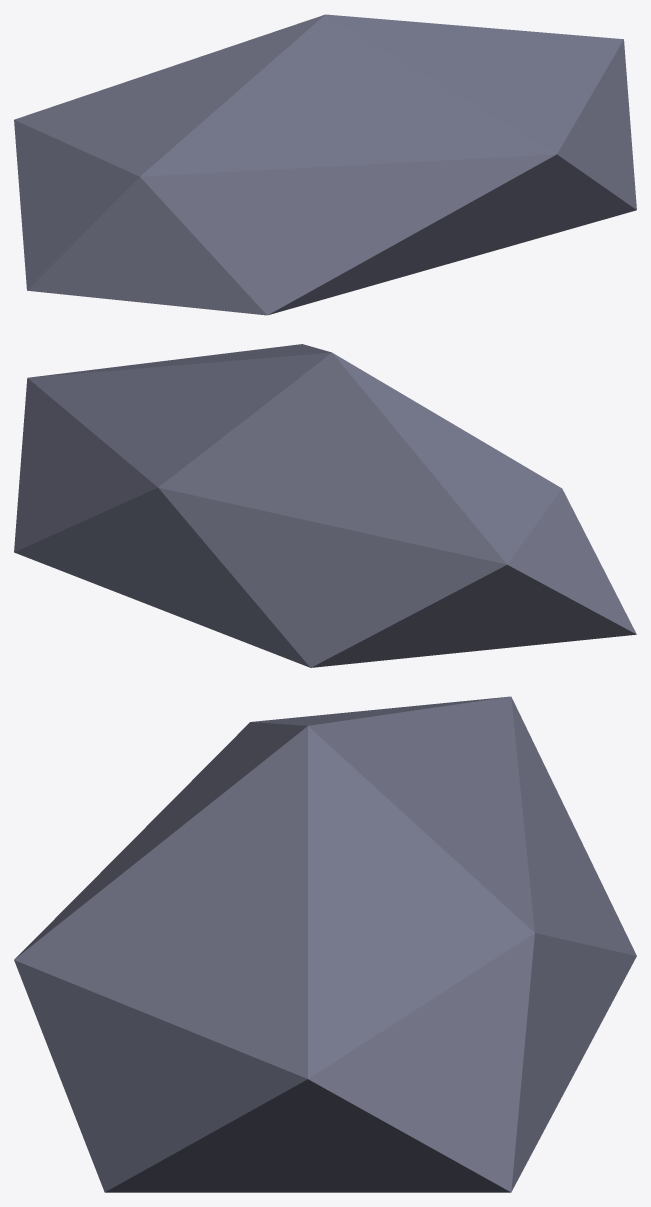
File: Steen laag1.fbx
3 renders of one model, top to bottom at view 1: azimuth 30°, elevation 25°; view 2: azimuth 150°, elevation 25°; view 3: azimuth 270°, elevation 25°, orthographic. The views are drawn at different scales.
Parts seen in each view (by area): view 1: Icosphere.002; view 2: Icosphere.002; view 3: Icosphere.002.
Boxes of the visible parts, x1,y1,x2,y2 form: Icosphere.002: (14,14,636,315); Icosphere.002: (14,344,636,667); Icosphere.002: (14,696,636,1192).
Bounding box in the file's own units: 155 × 50.57 × 96.65.
